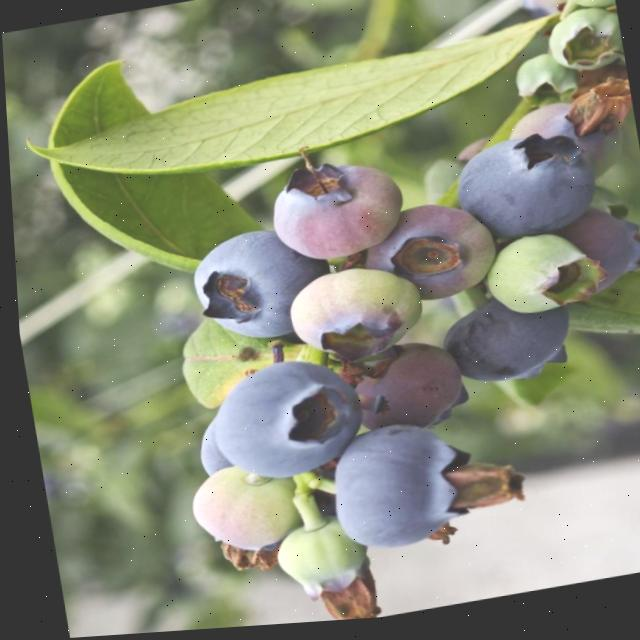RipeBlueBerry: (319, 416, 472, 558), (198, 355, 361, 488)
Semi-RipeBlueBerry: (280, 263, 425, 369), (262, 157, 400, 268)
UnripeBlueBerry: (479, 235, 590, 323)
